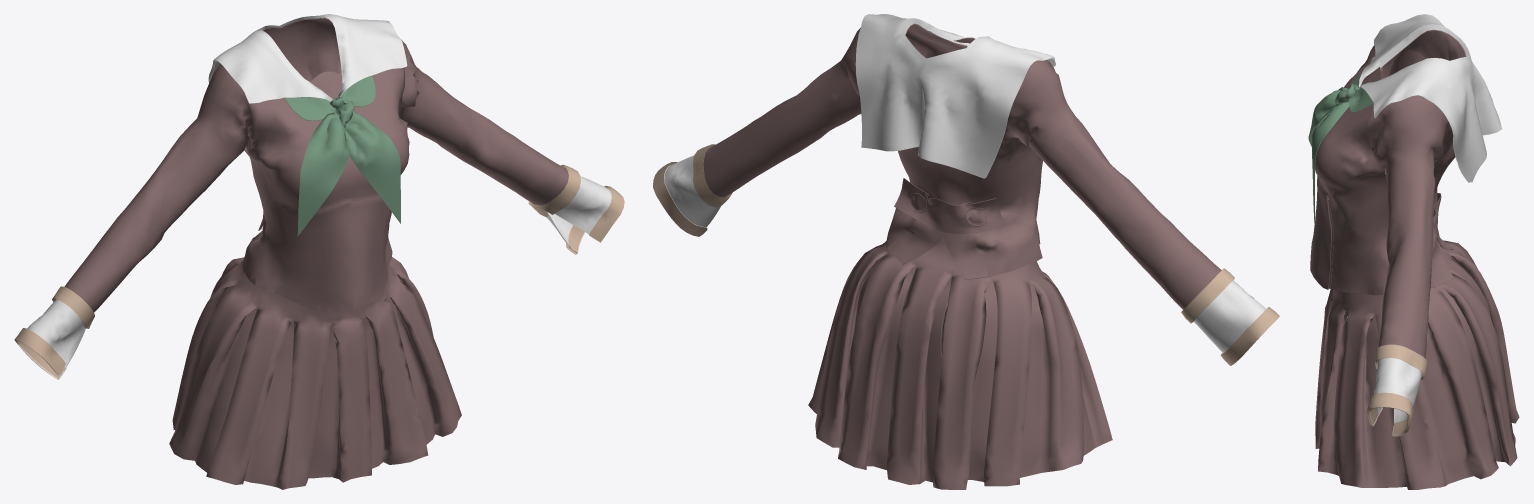
The model's file is Asuka_Body (1).fbx.
3 views of the same model, side by side, from view 1: azimuth 30°, elevation 25°; view 2: azimuth 150°, elevation 25°; view 3: azimuth 270°, elevation 25° (orthographic). The views are drawn at different scales.
Visible parts, largest first — view 1: polySurface16; view 2: polySurface16; view 3: polySurface16.
Part boxes in pixels (x1,y1,x2,y2): polySurface16: (14,14,624,489); polySurface16: (653,14,1279,489); polySurface16: (1308,14,1519,489).
Bounding box in the file's own units: 6.74 × 4.42 × 2.1.
